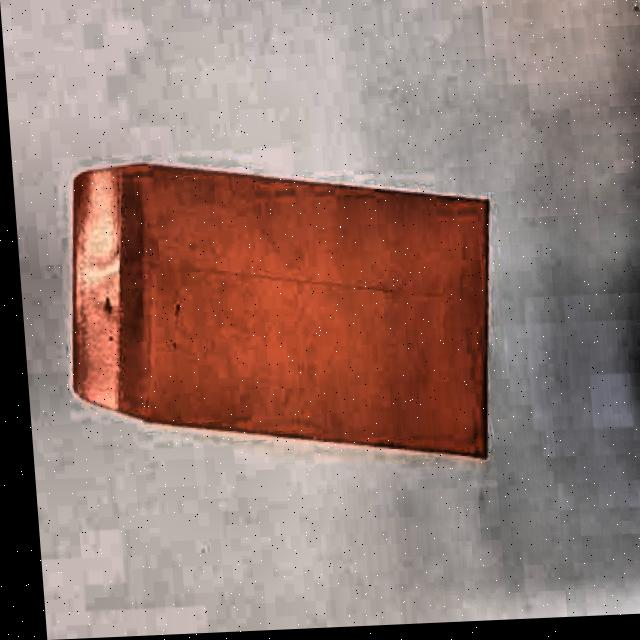paper: (54, 148, 508, 483)
